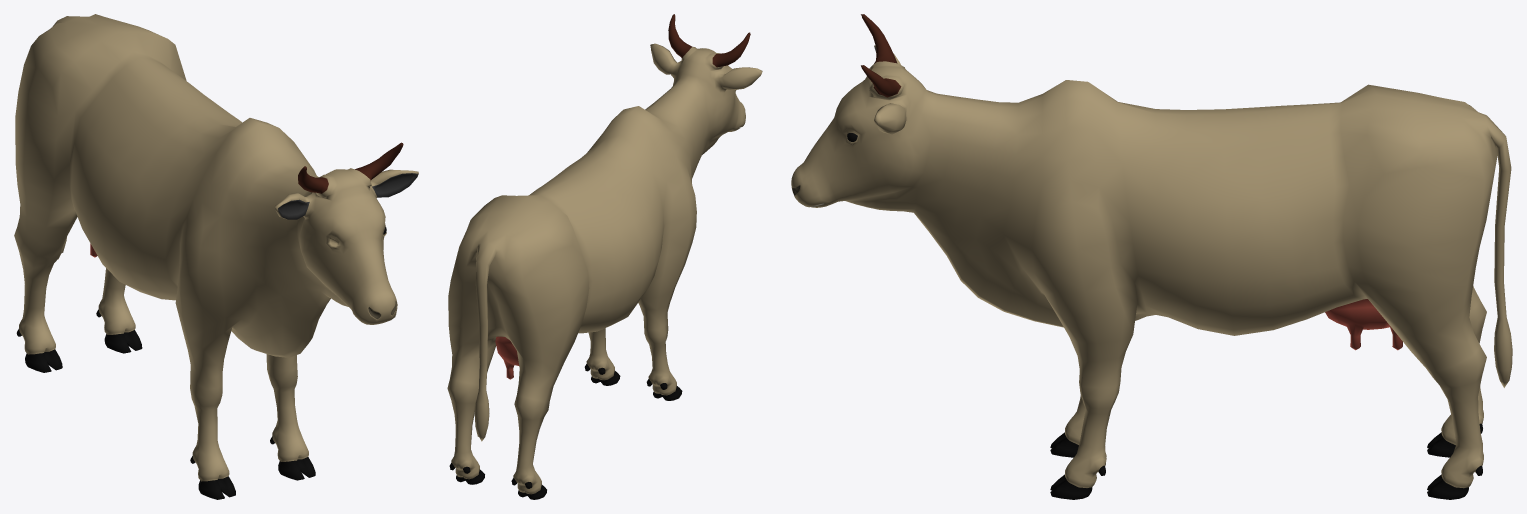
The model's file is zebu.obj.
3 renders of one model, left to right at view 1: azimuth 30°, elevation 25°; view 2: azimuth 150°, elevation 25°; view 3: azimuth 270°, elevation 25°, orthographic. The views are drawn at different scales.
Visible parts, largest first — view 1: zebu; view 2: zebu; view 3: zebu.
Boxes of the visible parts, left/top/right/bottom form: zebu: left=14, top=14, right=418, bottom=499; zebu: left=447, top=14, right=762, bottom=499; zebu: left=791, top=14, right=1512, bottom=499.
Bounding box in the file's own units: 0.7022 × 1.62 × 2.45.
